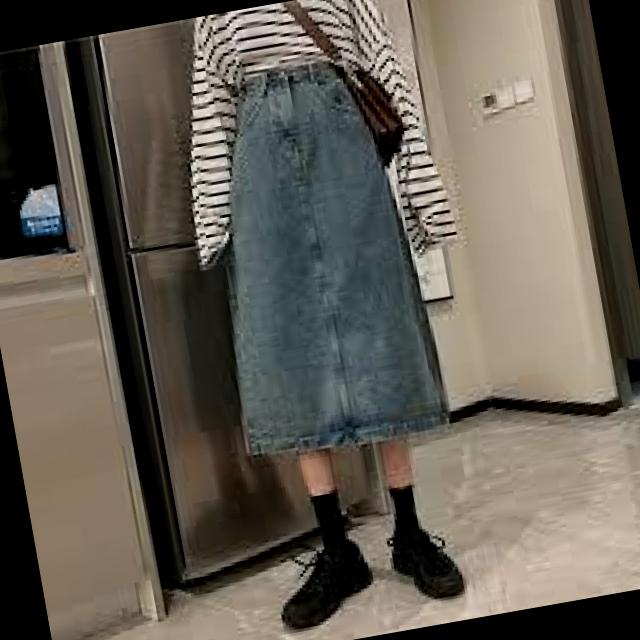skirt: (178, 52, 450, 469)
